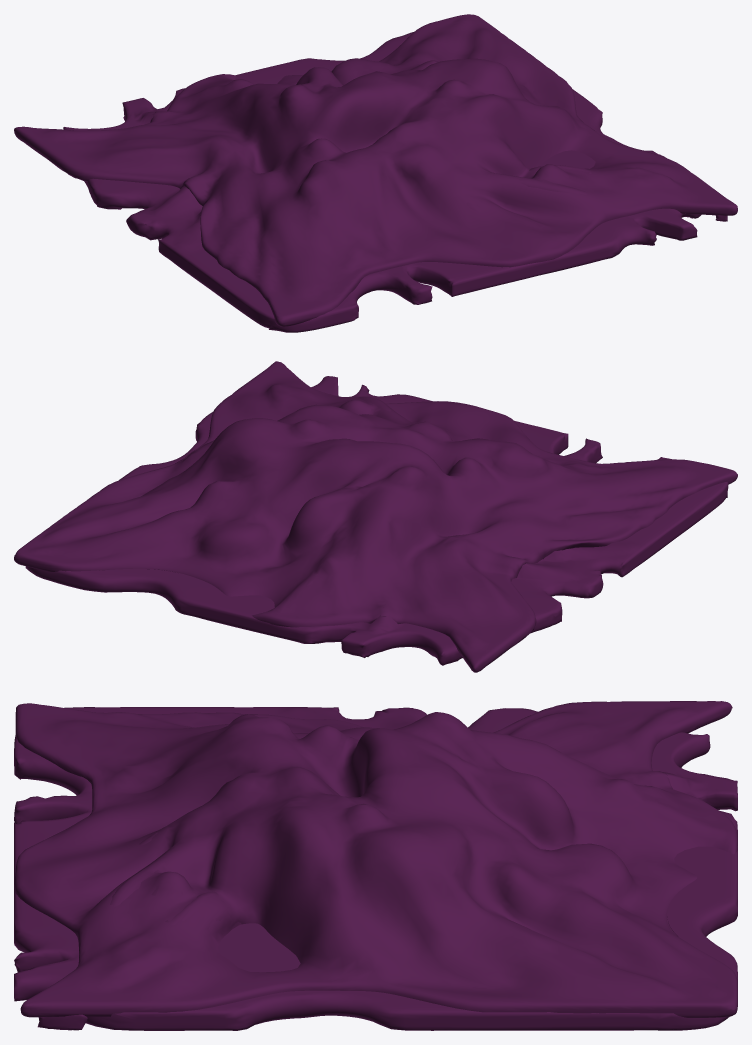
File: Sludge_Clump.fbx
The picture shows the model from 3 angles, top to bottom: view 1: azimuth 30°, elevation 25°; view 2: azimuth 150°, elevation 25°; view 3: azimuth 270°, elevation 25°; orthographic projection. The views are drawn at different scales.
Visible parts, largest first — view 1: Sludge_Clump; view 2: Sludge_Clump; view 3: Sludge_Clump.
Part boxes in pixels (x1,y1,x2,y2): Sludge_Clump: [14, 14, 737, 332]; Sludge_Clump: [14, 361, 737, 672]; Sludge_Clump: [14, 701, 737, 1030].
Bounding box in the file's own units: 291 × 57.5 × 291.
